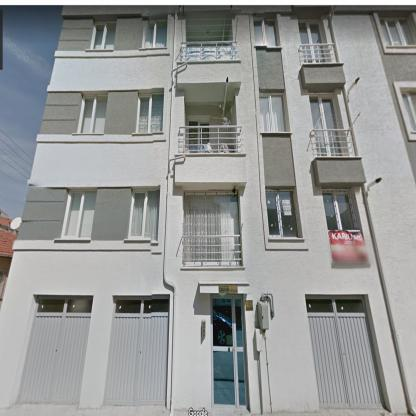door: (308, 315, 385, 408), (18, 314, 90, 402), (104, 316, 169, 404), (210, 294, 248, 409), (188, 118, 198, 152)
window: (183, 193, 241, 263), (309, 92, 345, 157), (60, 190, 97, 239), (127, 188, 160, 242), (265, 189, 299, 238), (322, 190, 358, 232), (298, 20, 328, 64), (305, 295, 367, 314), (77, 95, 107, 133), (35, 295, 93, 314), (136, 92, 163, 132), (259, 94, 287, 132), (379, 18, 415, 46), (114, 297, 170, 314), (400, 88, 416, 132), (90, 22, 116, 49), (254, 17, 278, 46), (143, 20, 166, 48), (200, 117, 210, 143)
